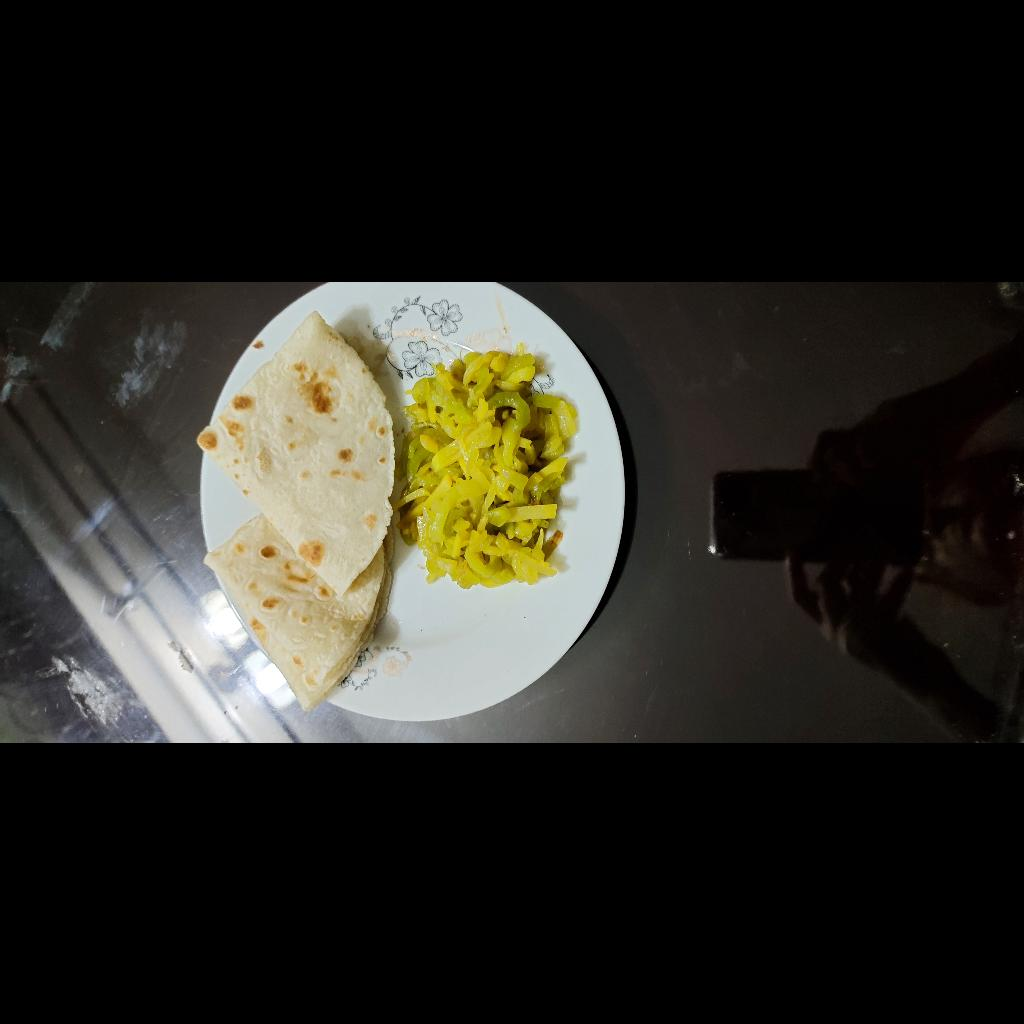chichinga-vaji: (155, 678, 392, 857)
ruti: (33, 475, 437, 676)
